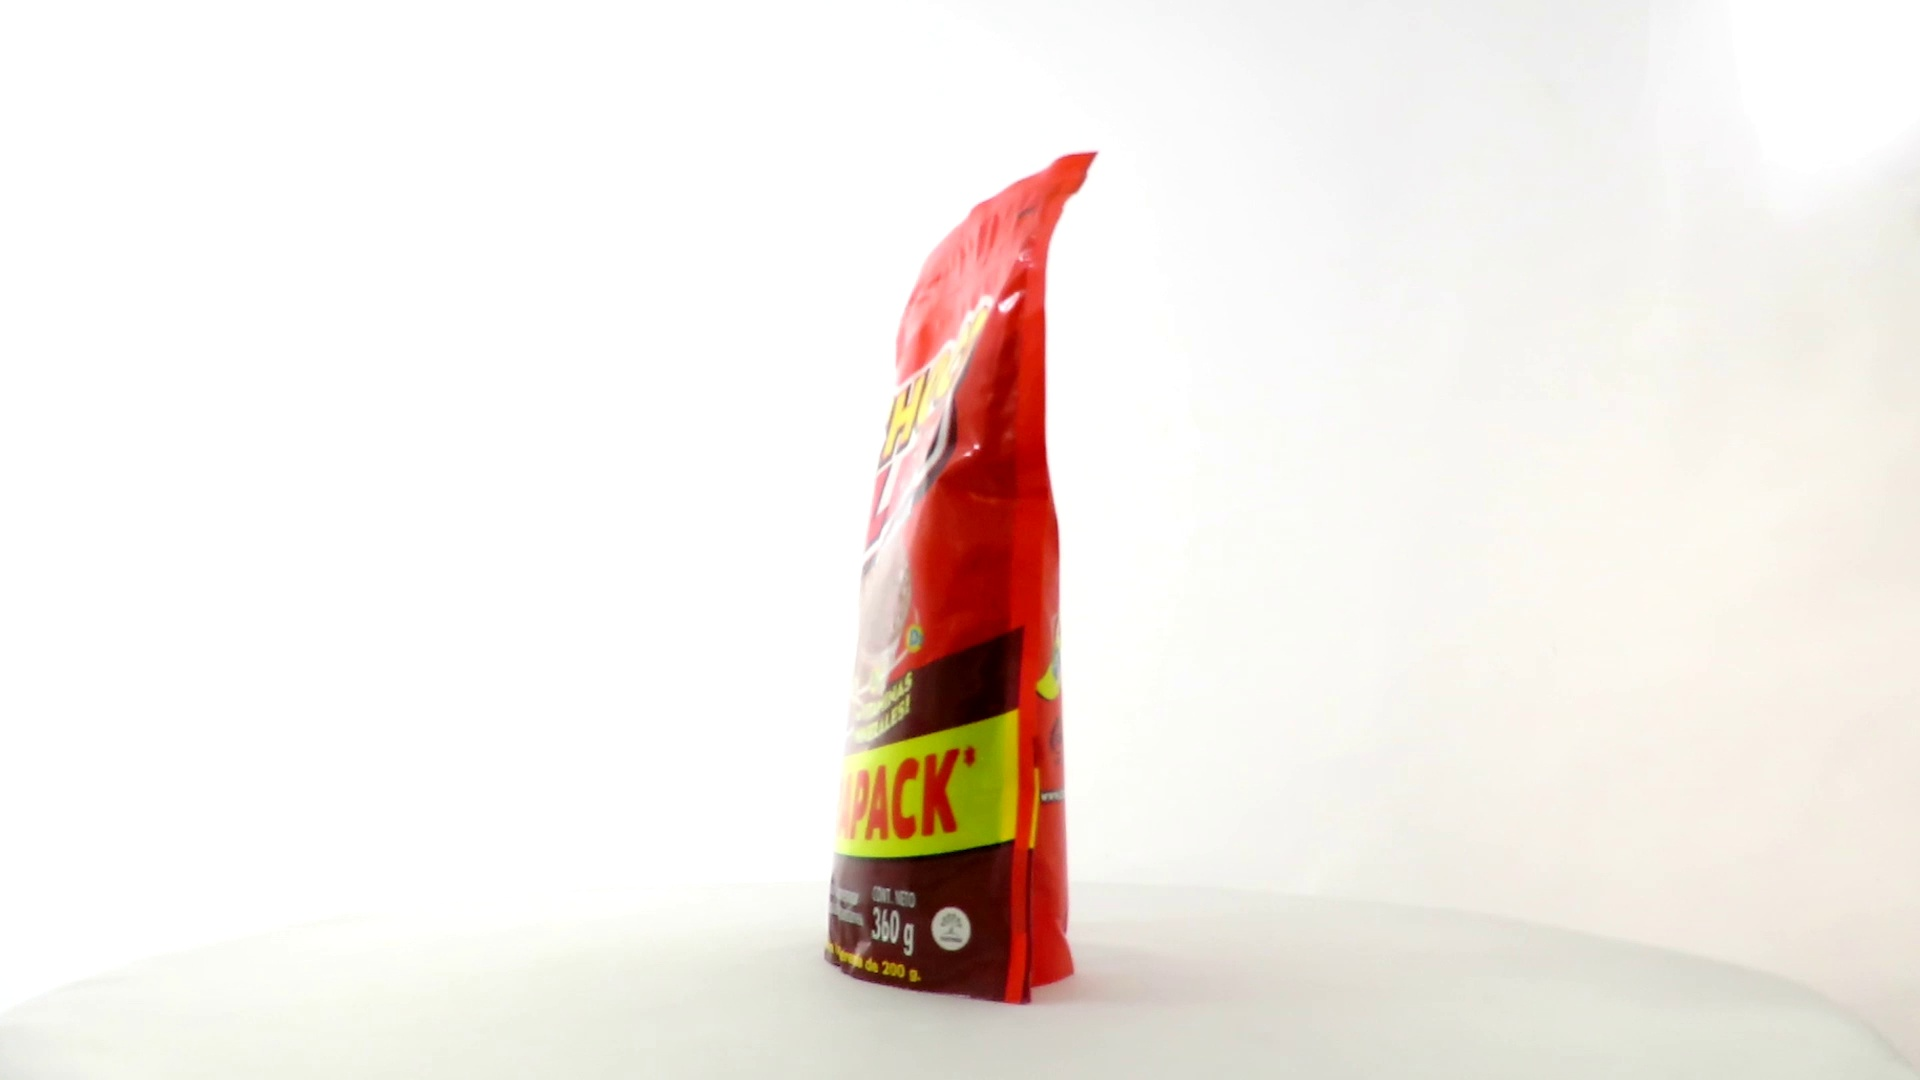COL0170103DYP36000: (819, 146, 1104, 1011)
